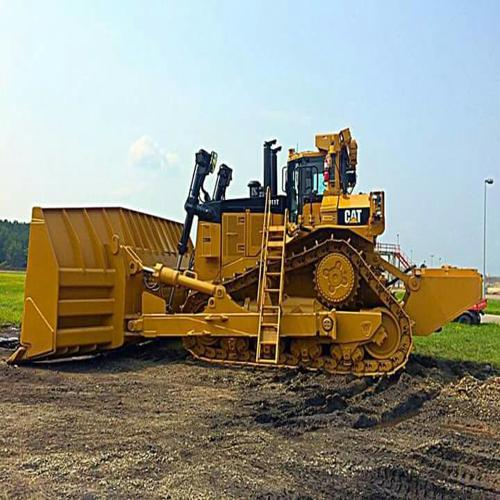con_eq: (20, 127, 483, 379)
